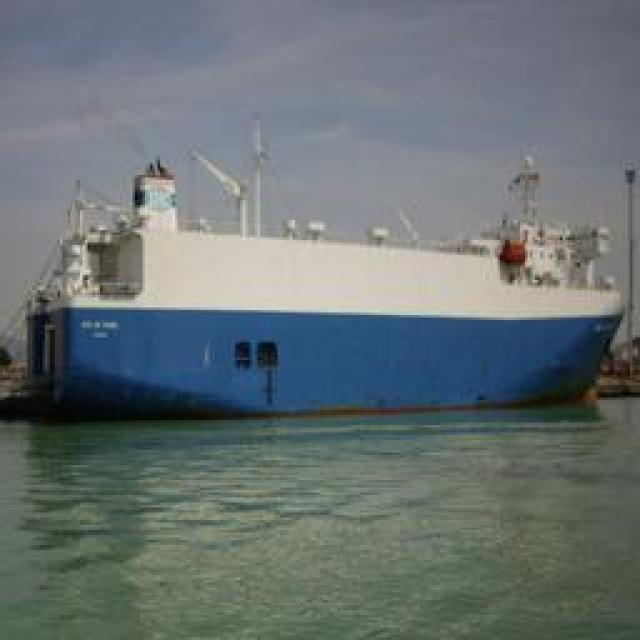CIV_Ship: (14, 141, 628, 429)
